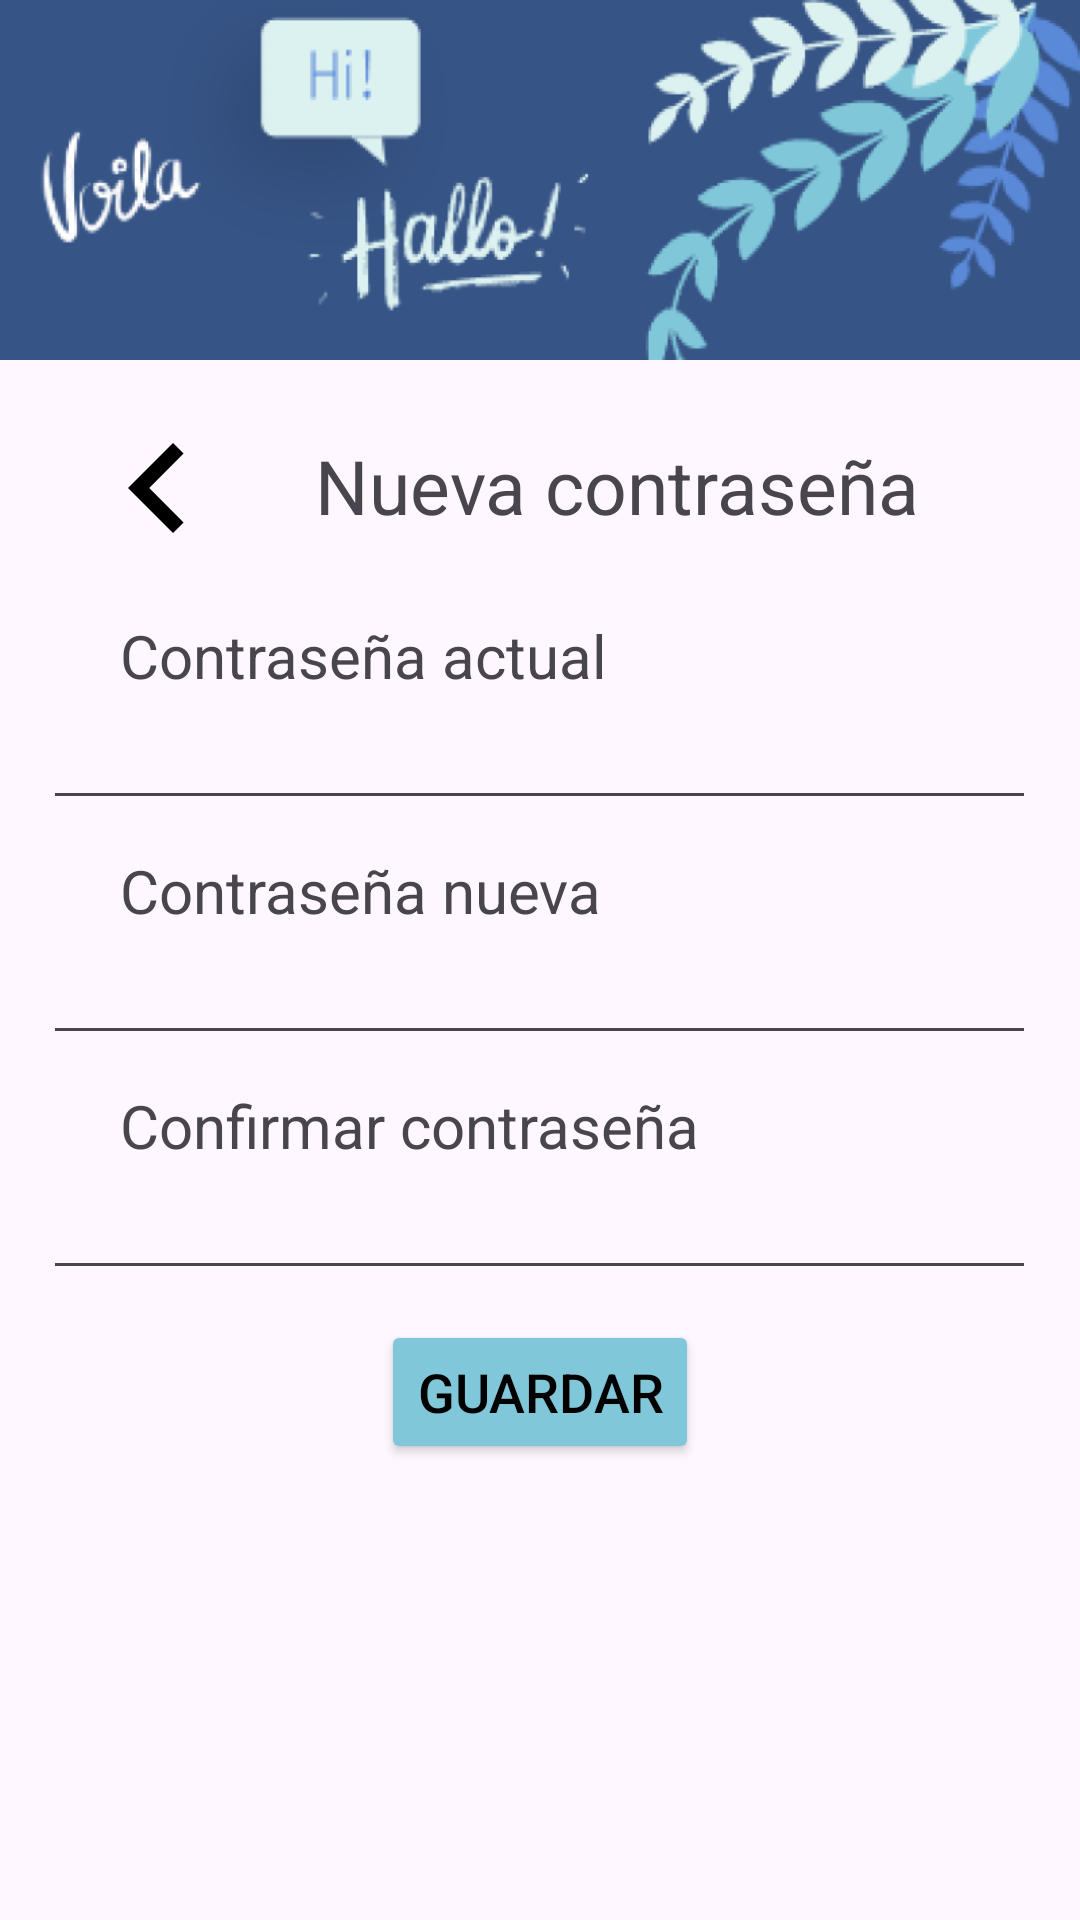

Named icons in this screenshot (1080×1920) and their bounding boxes, {"x1": x1, "y1": y1, "x2": x2, "y2": y2}:
chevron left: {"x1": 128, "y1": 443, "x2": 184, "y2": 533}
